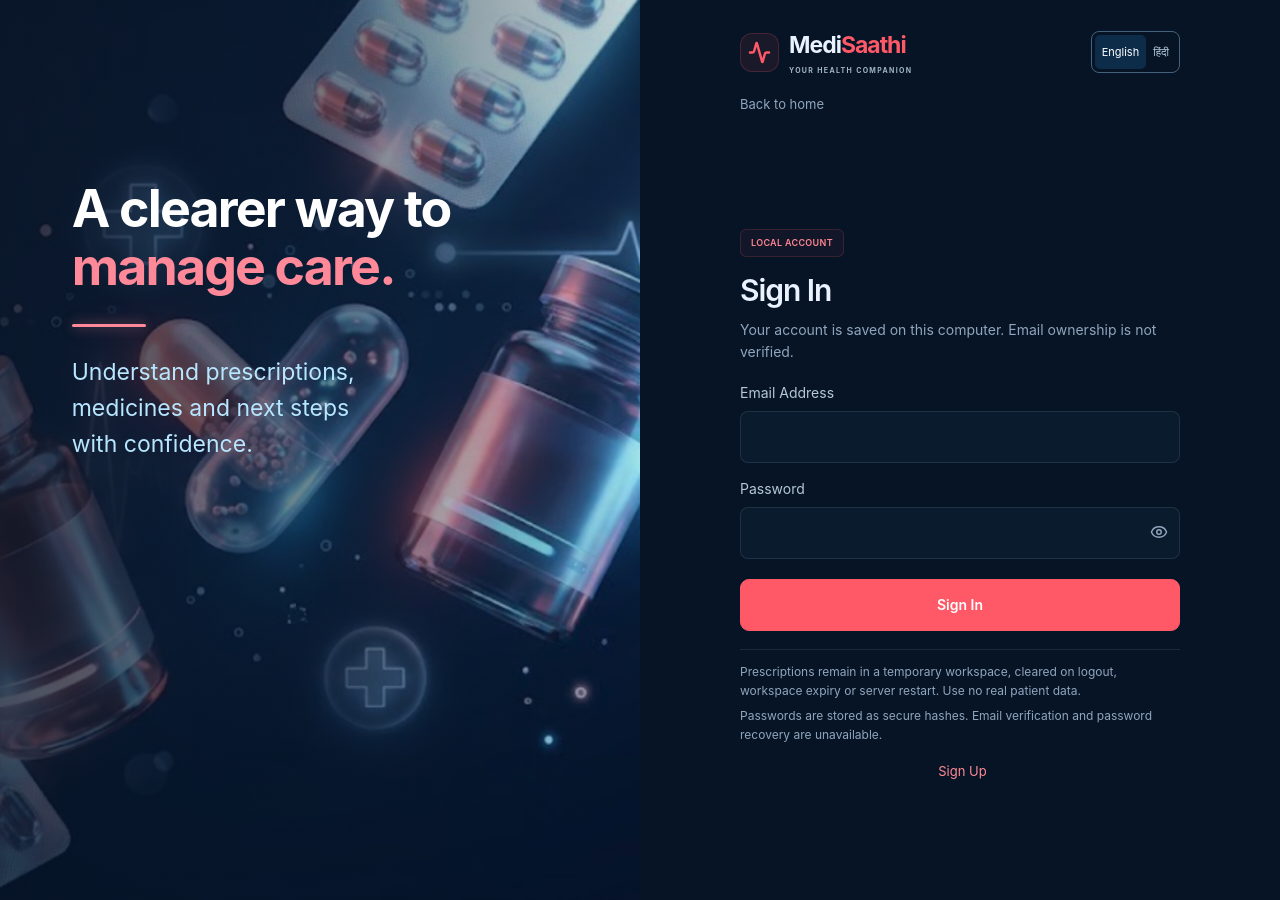
shows invalid_credentials without fake success
Type "asha@example.test" into the field labelled "Email Address" at (960, 437), box [740,411,1180,463]
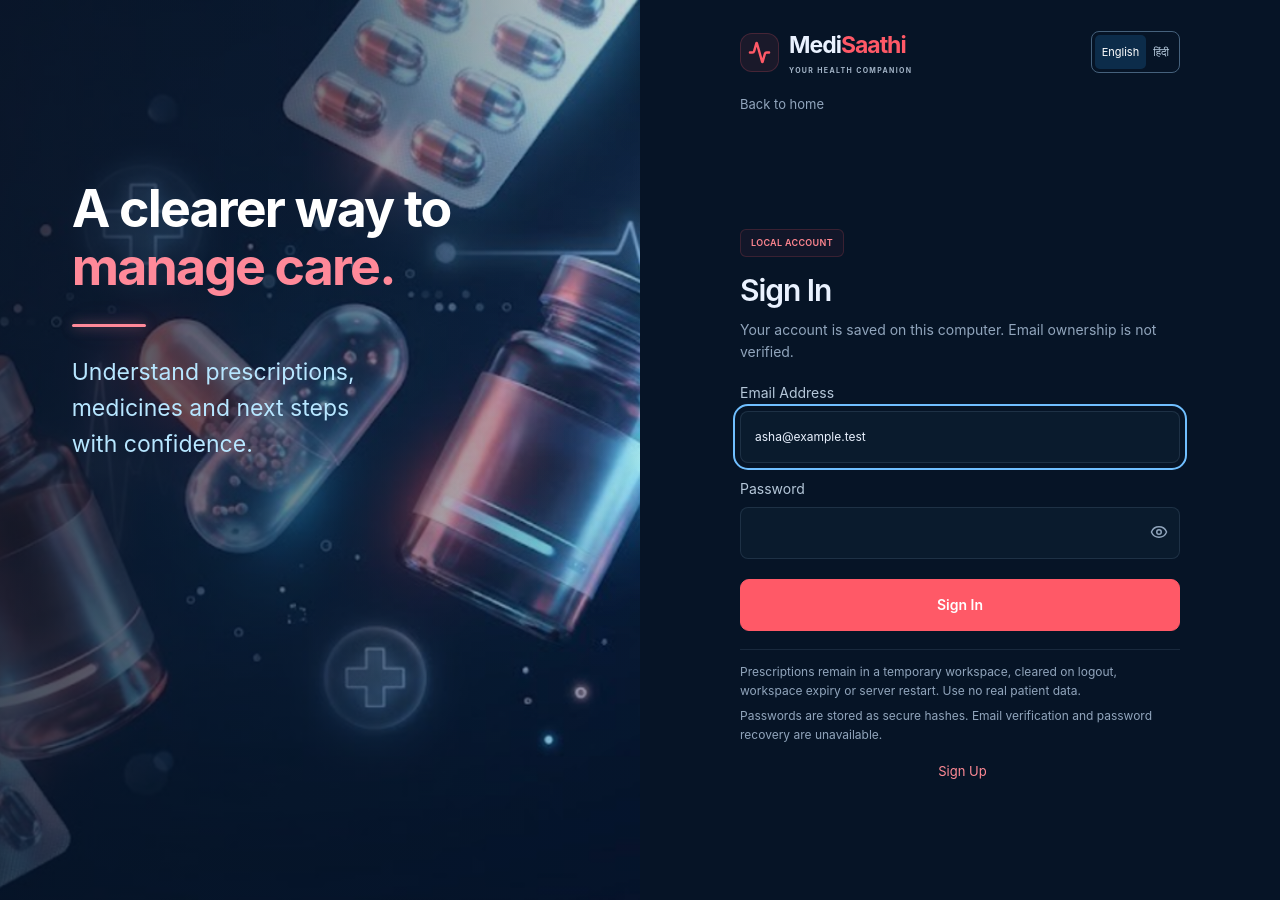
Type "incorrect" into the password field labelled "Password" at (960, 533), box [740,507,1180,559]
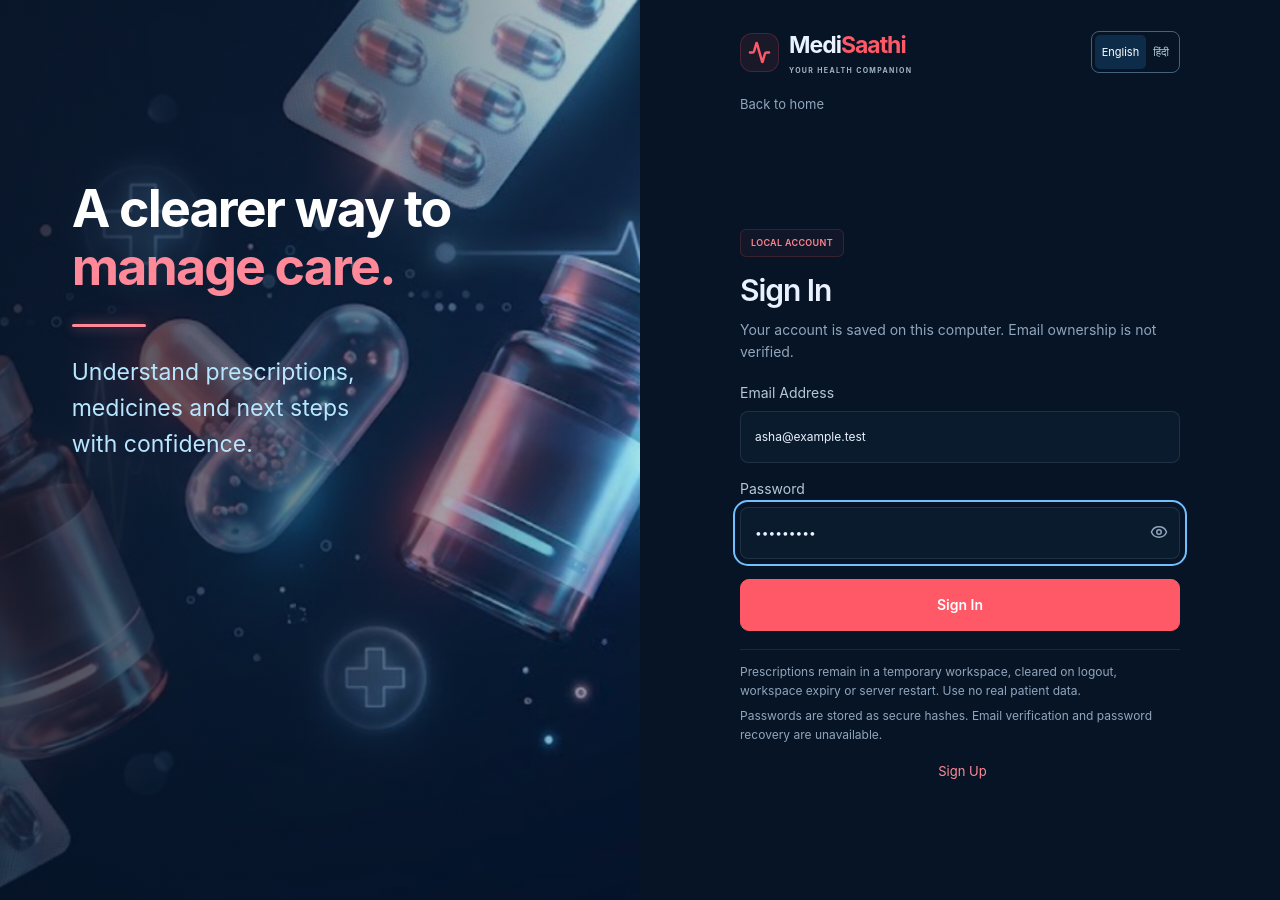
Click the button "Sign In" at (960, 605), box [740,579,1180,631]
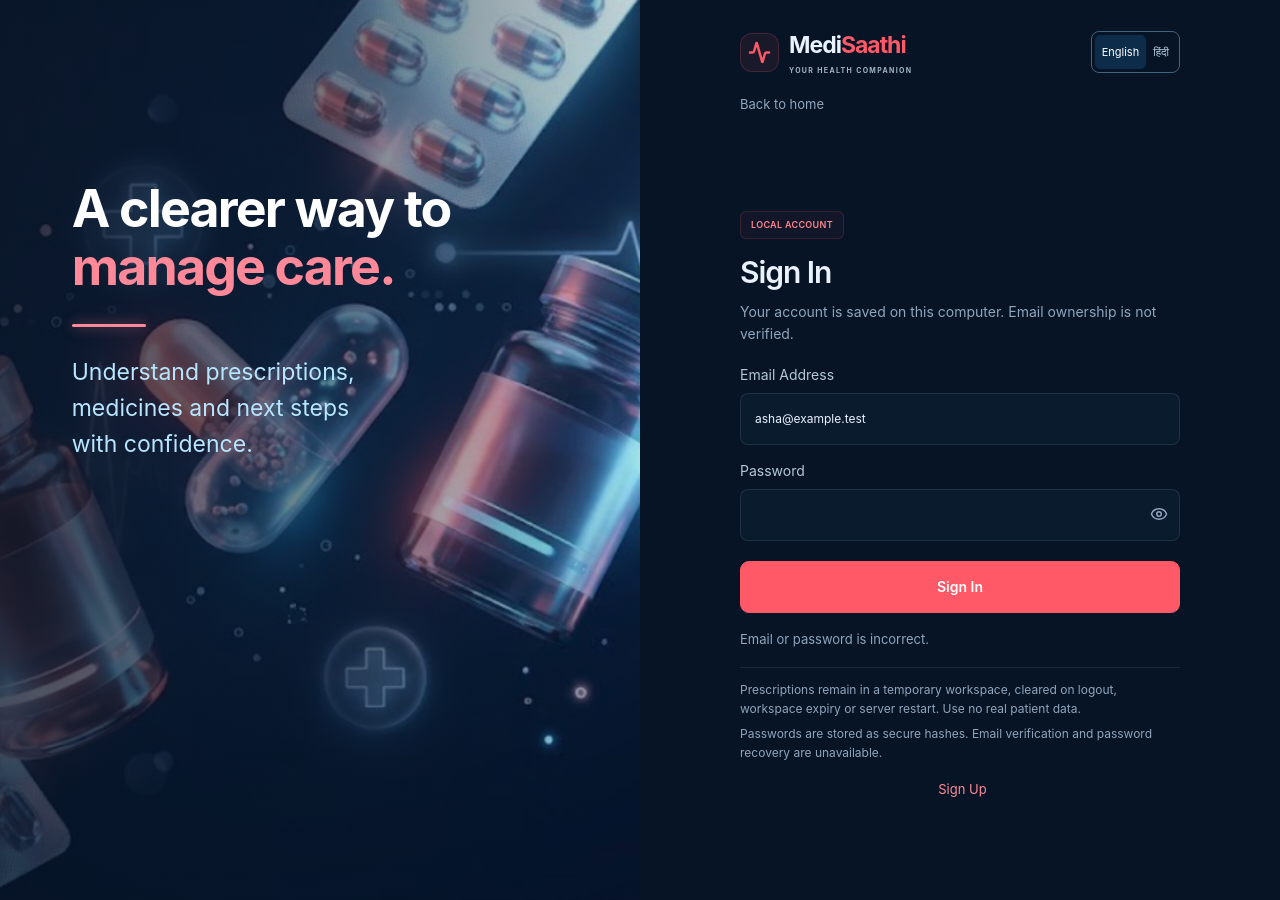
Check: the message reads "Email or password is incorrect.", box [740,631,929,647]
